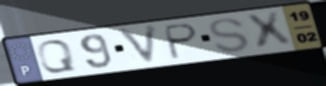9: (77, 32, 114, 70)
P: (162, 22, 201, 62)
Q: (35, 38, 79, 75)
S: (207, 17, 252, 55)
V: (115, 22, 160, 68)
X: (242, 9, 296, 52)
